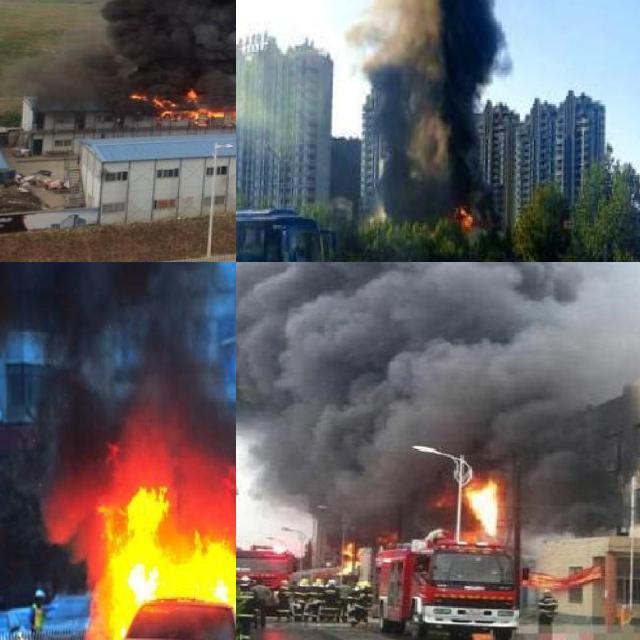fire: (82, 465, 236, 640), (126, 83, 236, 139), (459, 475, 498, 539), (335, 540, 360, 574), (454, 200, 474, 227)
smoke: (236, 262, 640, 524), (0, 262, 236, 511), (348, 0, 551, 223), (0, 0, 236, 113)
